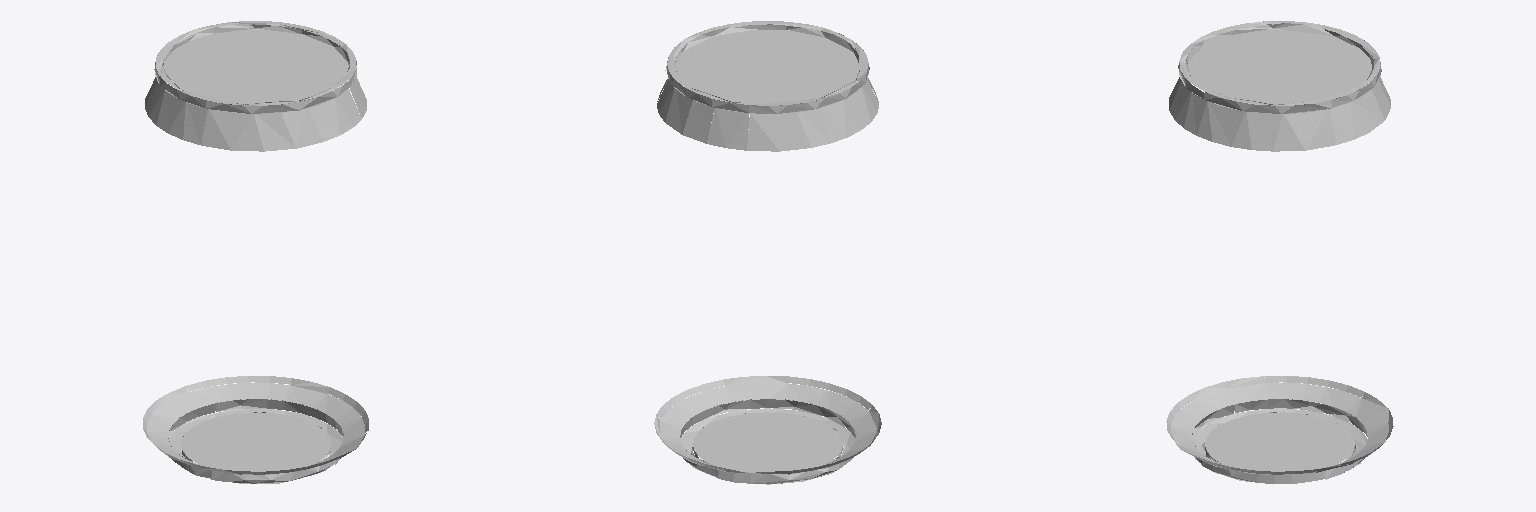
Rendered from testbottom.obj.
The picture shows the model from 3 angles: view 1: azimuth 30°, elevation 25°; view 2: azimuth 150°, elevation 25°; view 3: azimuth 270°, elevation 25°; orthographic projection.
Parts seen in each view (by area): view 1: testbottom; view 2: testbottom; view 3: testbottom.
Boxes of the visible parts, x1=… form: testbottom: x1=143, y1=21, x2=368, y2=483; testbottom: x1=654, y1=21, x2=881, y2=484; testbottom: x1=1166, y1=21, x2=1393, y2=483.
Bounding box in the file's own units: 4.45 × 8.34 × 4.45.